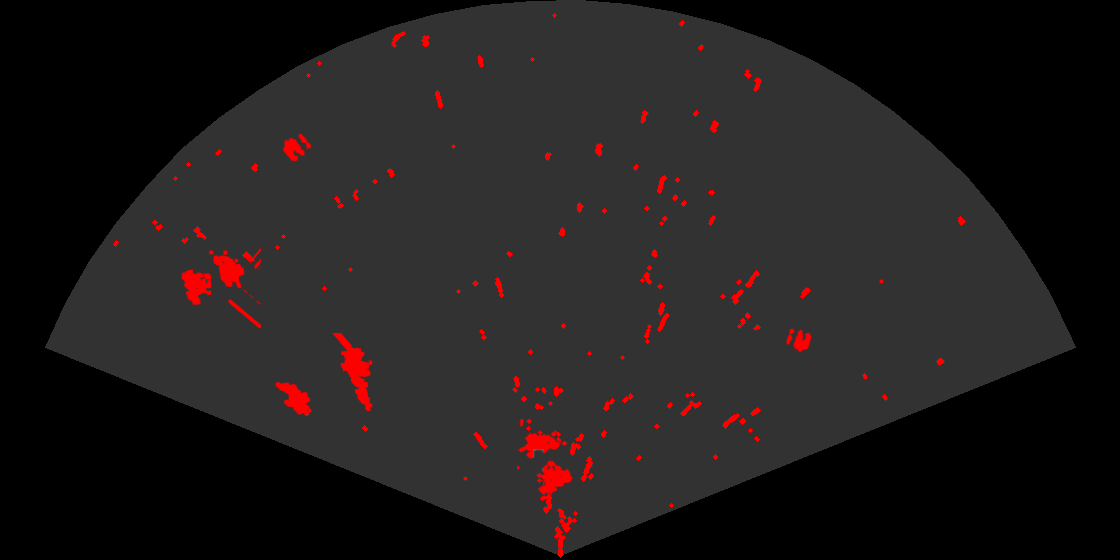AUV: (274, 380, 313, 417)
ball: (281, 132, 313, 163), (785, 327, 813, 354)
cage: (180, 247, 261, 328), (517, 419, 574, 497)
frogman: (331, 333, 374, 413)
